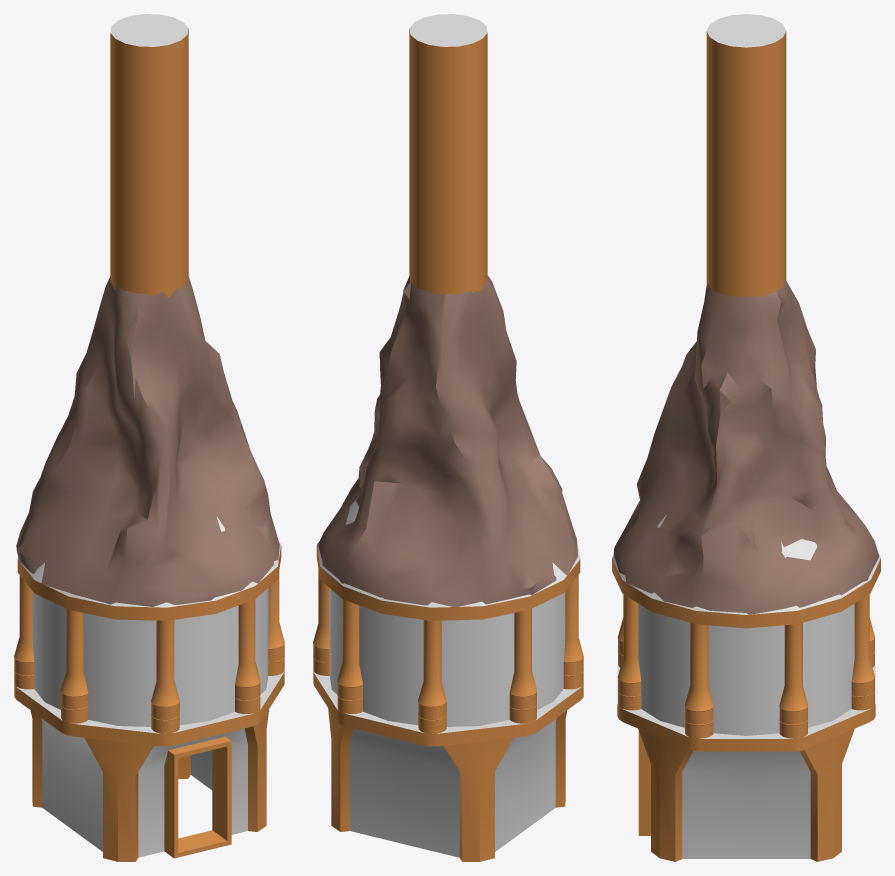
Rendered from prop_House.fbx.
3 renders of one model, left to right at view 1: azimuth 30°, elevation 25°; view 2: azimuth 150°, elevation 25°; view 3: azimuth 270°, elevation 25°, orthographic.
Parts seen in each view (by area): view 1: prop_House; view 2: prop_House; view 3: prop_House.
Boxes of the visible parts, x1,y1,x2,y2 form: prop_House: [14, 14, 284, 861]; prop_House: [313, 14, 583, 861]; prop_House: [612, 14, 880, 861].
Bounding box in the file's own units: 803 × 2606 × 803.
